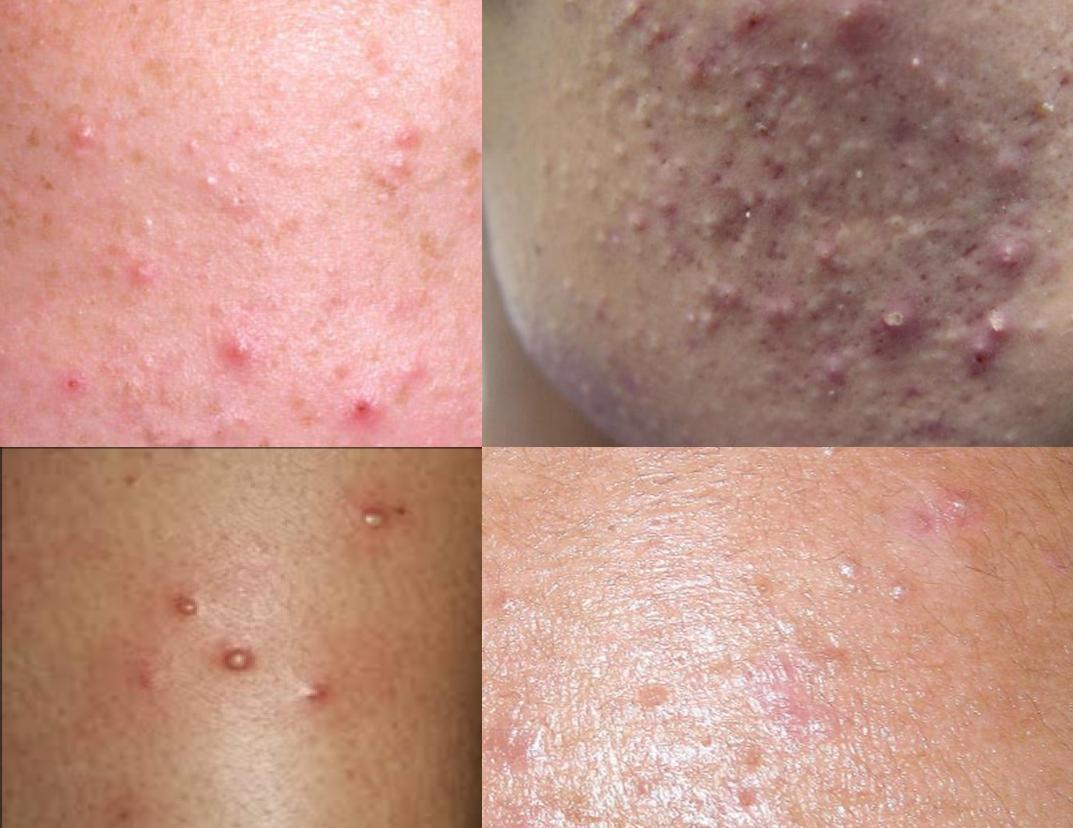blackhead: (203, 414, 231, 448)
folliculitis: (211, 639, 262, 682), (348, 499, 397, 541), (162, 594, 211, 623)
papular: (609, 191, 680, 277), (936, 482, 991, 544), (613, 1, 662, 64), (883, 109, 943, 157), (749, 293, 800, 337), (399, 354, 442, 406), (730, 1, 778, 46), (806, 345, 848, 395), (293, 675, 340, 714), (383, 114, 421, 155), (57, 366, 98, 402), (992, 149, 1020, 194), (348, 390, 375, 430), (483, 814, 552, 828), (188, 169, 222, 197), (128, 214, 163, 238), (225, 190, 252, 221)
purulent: (832, 1, 884, 47), (870, 300, 922, 344), (217, 341, 260, 380), (63, 122, 101, 159), (989, 239, 1025, 276), (125, 256, 157, 296), (985, 314, 1006, 349)
sebo-crystan-conglo: (720, 240, 757, 272), (670, 153, 695, 196)
whitehead: (669, 94, 748, 140), (1020, 315, 1067, 385), (526, 298, 572, 361), (540, 151, 577, 220), (818, 550, 863, 599), (676, 301, 726, 344), (814, 59, 865, 101), (552, 270, 596, 318), (887, 48, 936, 90), (905, 402, 950, 445), (788, 448, 854, 476), (547, 73, 586, 119), (1003, 56, 1042, 96), (837, 135, 877, 173), (988, 412, 1030, 448), (876, 580, 919, 614), (672, 27, 709, 63), (883, 203, 914, 245), (829, 276, 869, 306), (791, 203, 825, 234), (1033, 160, 1060, 199), (609, 130, 635, 169), (726, 52, 744, 92)
